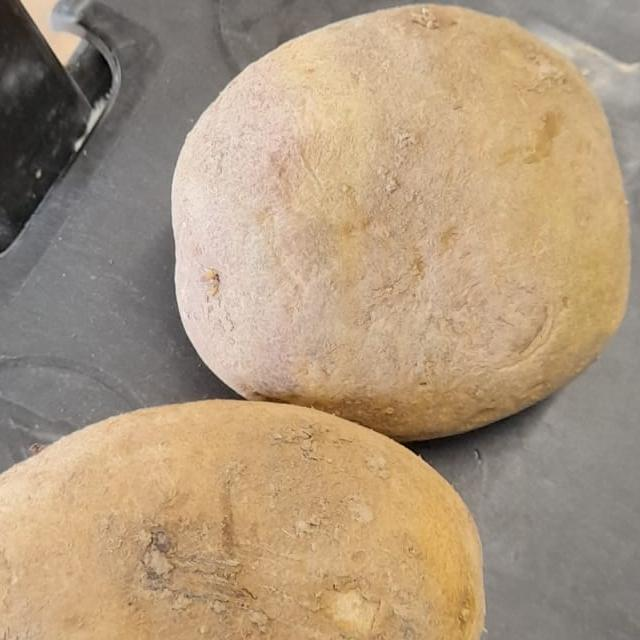potato: (143, 0, 640, 436), (0, 396, 506, 640)
